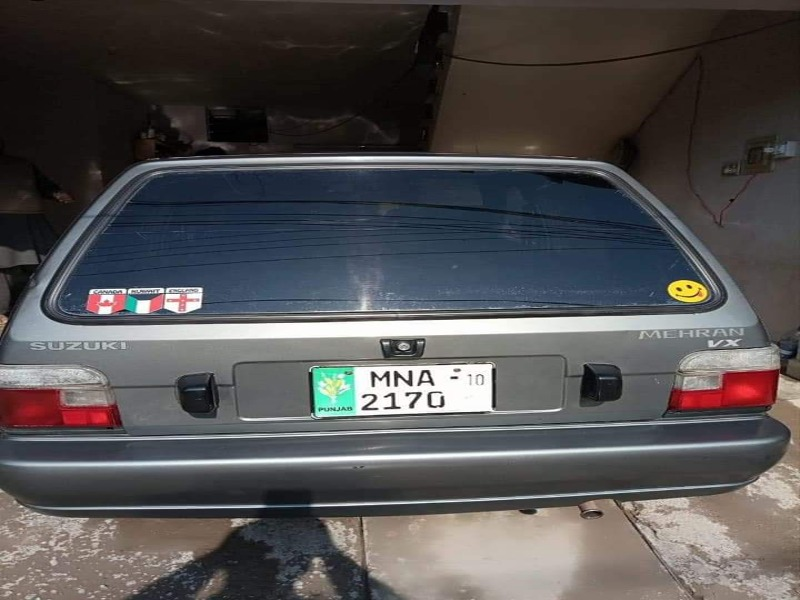License Plate: (305, 360, 502, 424)
